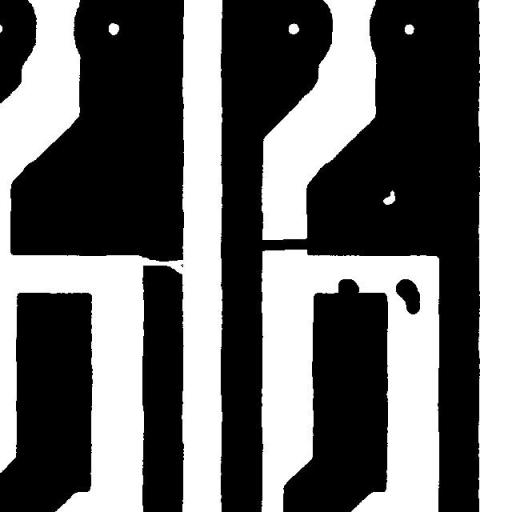copper: (388, 271, 427, 322)
open: (122, 247, 193, 282)
pin-hole: (376, 182, 402, 212)
short: (250, 230, 320, 258)
spur: (330, 271, 366, 306)
